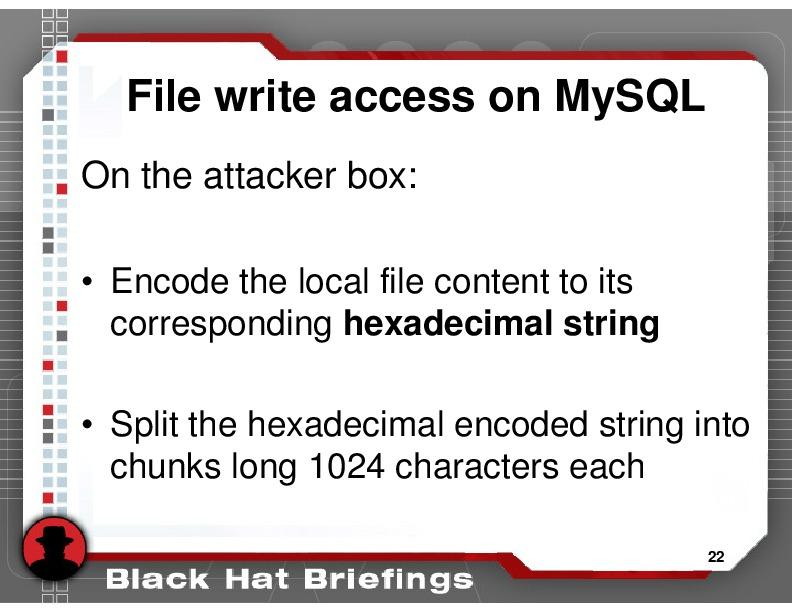paragraph: (77, 148, 766, 503)
subtitle: (96, 562, 481, 602)
title: (121, 68, 715, 123)
